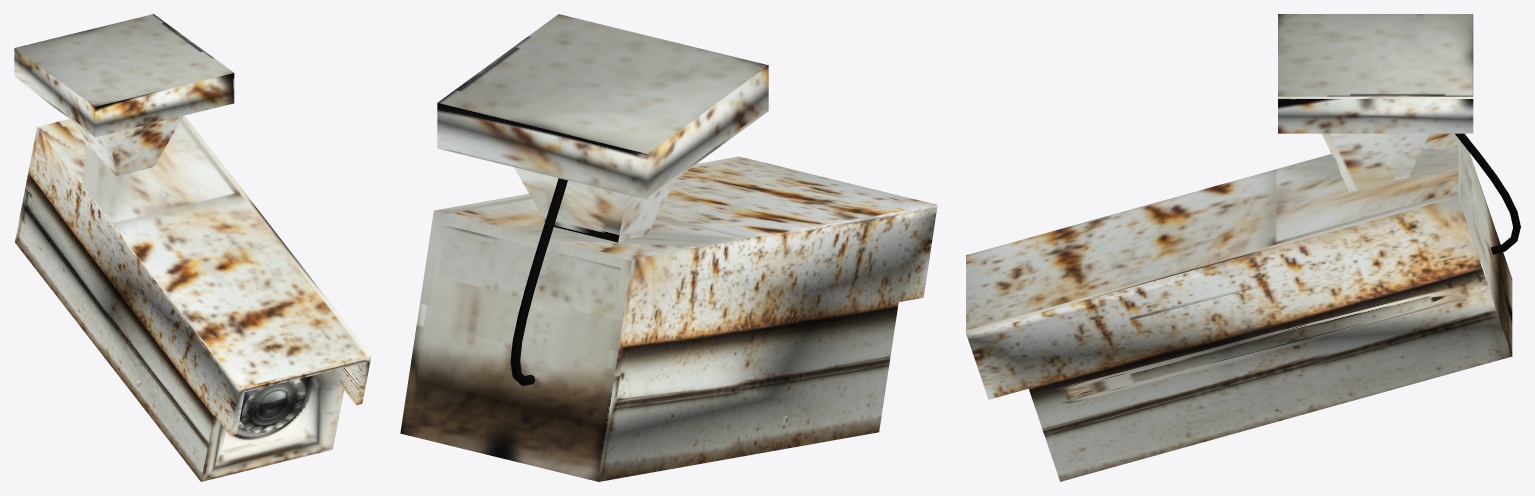
File: cctvcamera.fbx
The picture shows the model from 3 angles, left to right: view 1: azimuth 30°, elevation 25°; view 2: azimuth 150°, elevation 25°; view 3: azimuth 270°, elevation 25°; orthographic projection. The views are drawn at different scales.
Visible parts, largest first — view 1: CCTV; view 2: CCTV; view 3: CCTV.
Part boxes in pixels (x1=…): CCTV: x1=14, y1=14, x2=371, y2=481; CCTV: x1=400, y1=14, x2=937, y2=481; CCTV: x1=966, y1=14, x2=1520, y2=481.
Size of the model in its own units: 20.8 by 42.06 by 55.63.
1 material, 1 textured.
